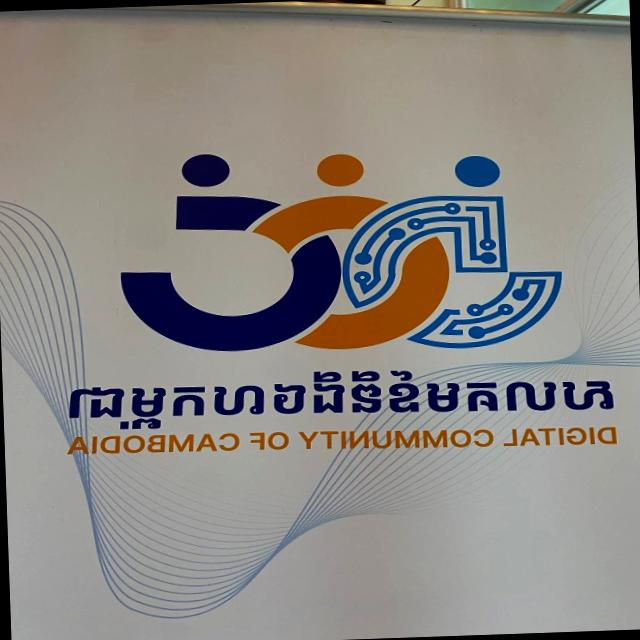Yolov11_80vkh: (55, 359, 624, 436)
